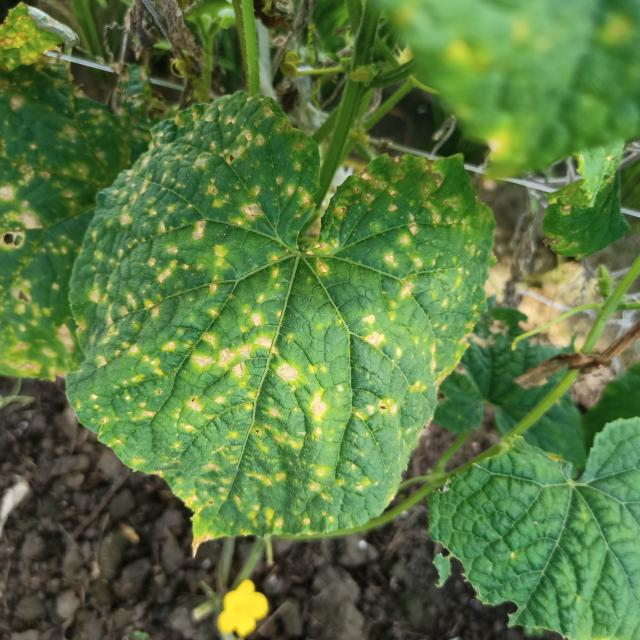disease_cucumber: (75, 96, 486, 534), (0, 42, 142, 383)
